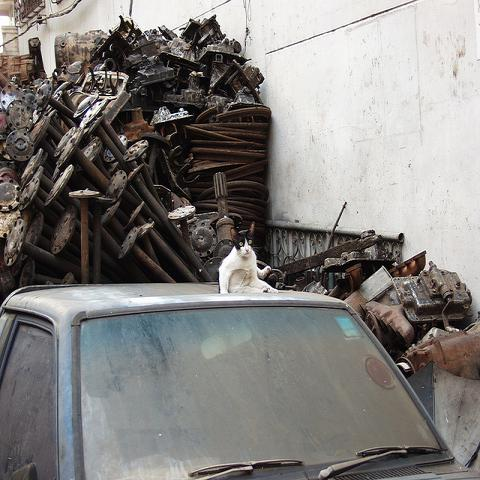car: (1, 276, 475, 475)
